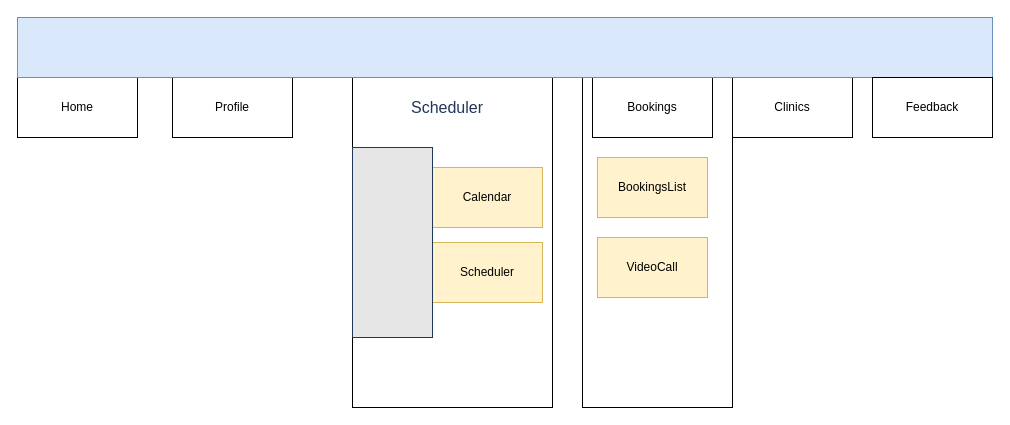
This 1010x425 diagram has some shape labels left out. The box of each missing label's shape, as (x1, y1, x2, y2) in pixels:
createDrawerNavigator: (16, 16, 992, 78)
createStackNavigator: (352, 146, 432, 338)
